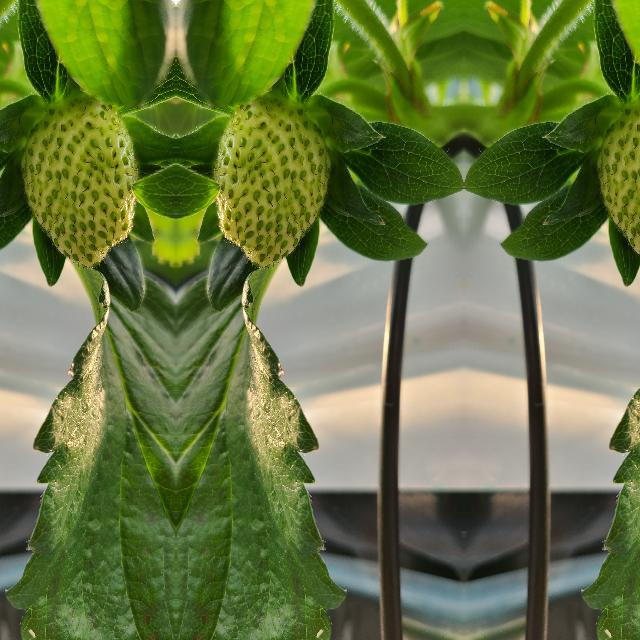Health_25: (210, 96, 330, 270), (20, 96, 140, 270), (595, 95, 640, 270)
